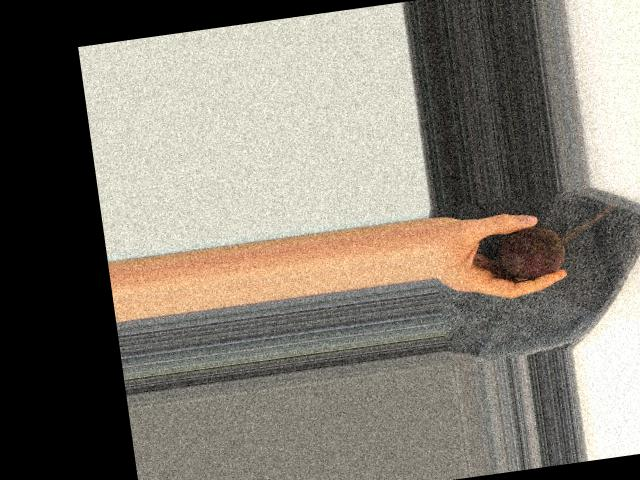beet: (495, 222, 567, 282)
